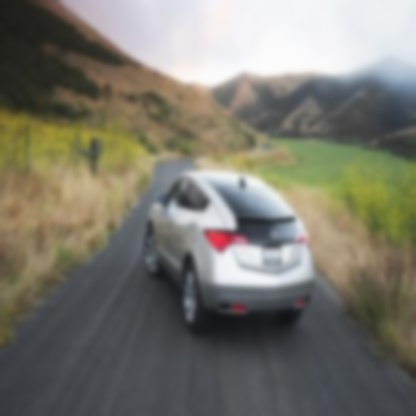Vehicle: (143, 166, 316, 338)
